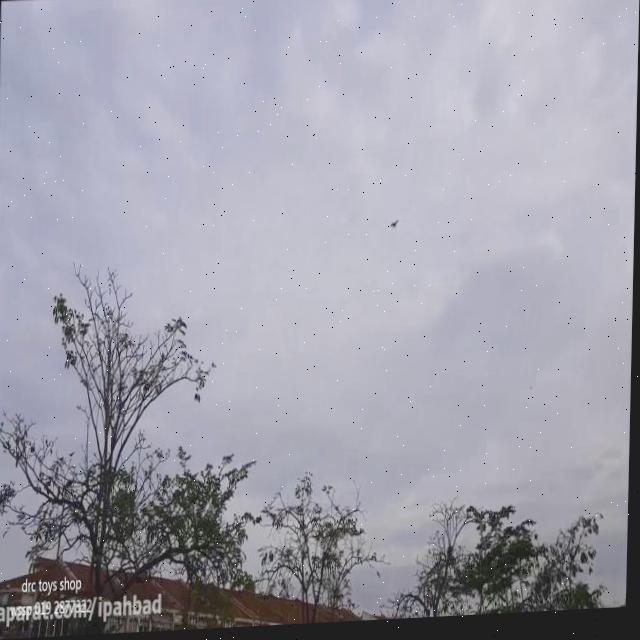drone: (389, 218, 401, 233)
